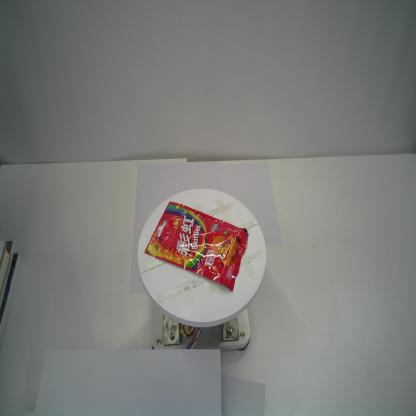Candy: (144, 201, 248, 292)
